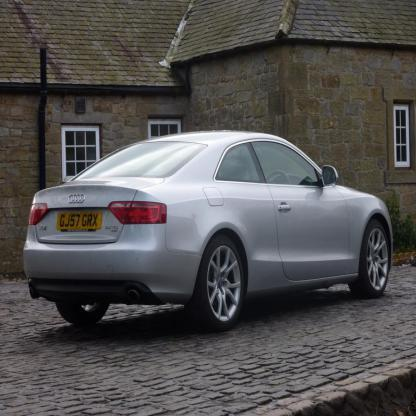vehicle: (24, 130, 394, 332)
